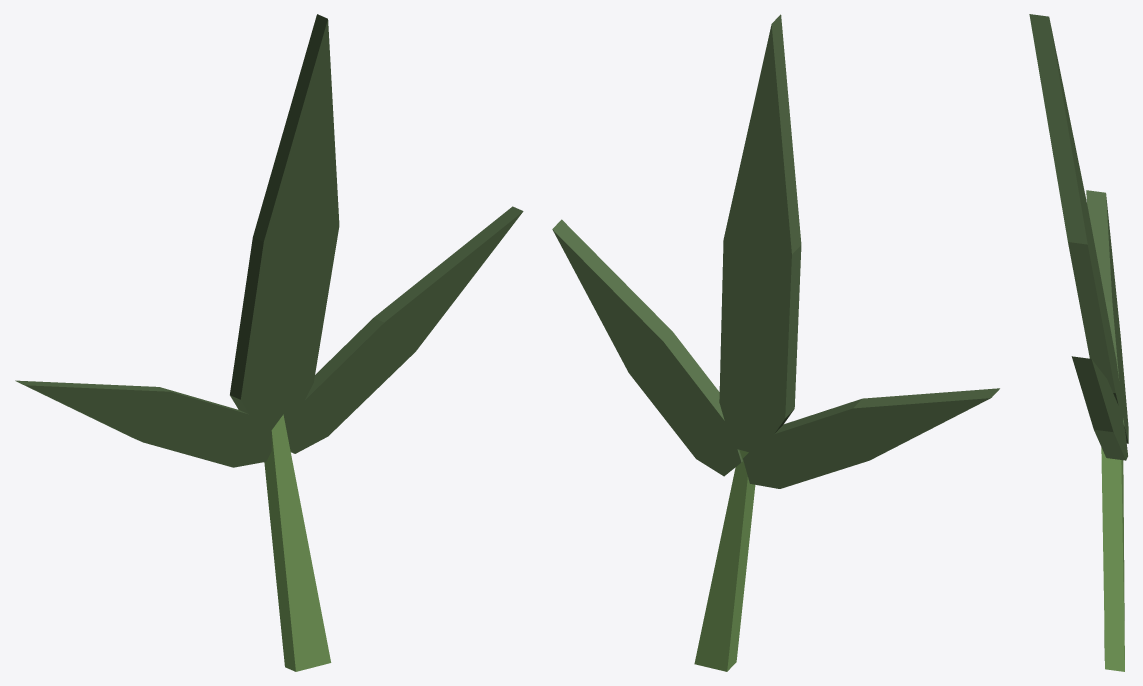
The model's file is Bamboo_1.glb.
The picture shows the model from 3 angles, left to right: view 1: azimuth 30°, elevation 25°; view 2: azimuth 150°, elevation 25°; view 3: azimuth 270°, elevation 25°; orthographic projection. The views are drawn at different scales.
Parts seen in each view (by area): view 1: Bamboo_1; view 2: Bamboo_1; view 3: Bamboo_1.
Boxes of the visible parts, <box> form: Bamboo_1: <box>15,14,523,671</box>; Bamboo_1: <box>552,14,999,671</box>; Bamboo_1: <box>1029,14,1128,671</box>.
Size of the model in its own units: 0.3829 by 0.5129 by 0.0723.
